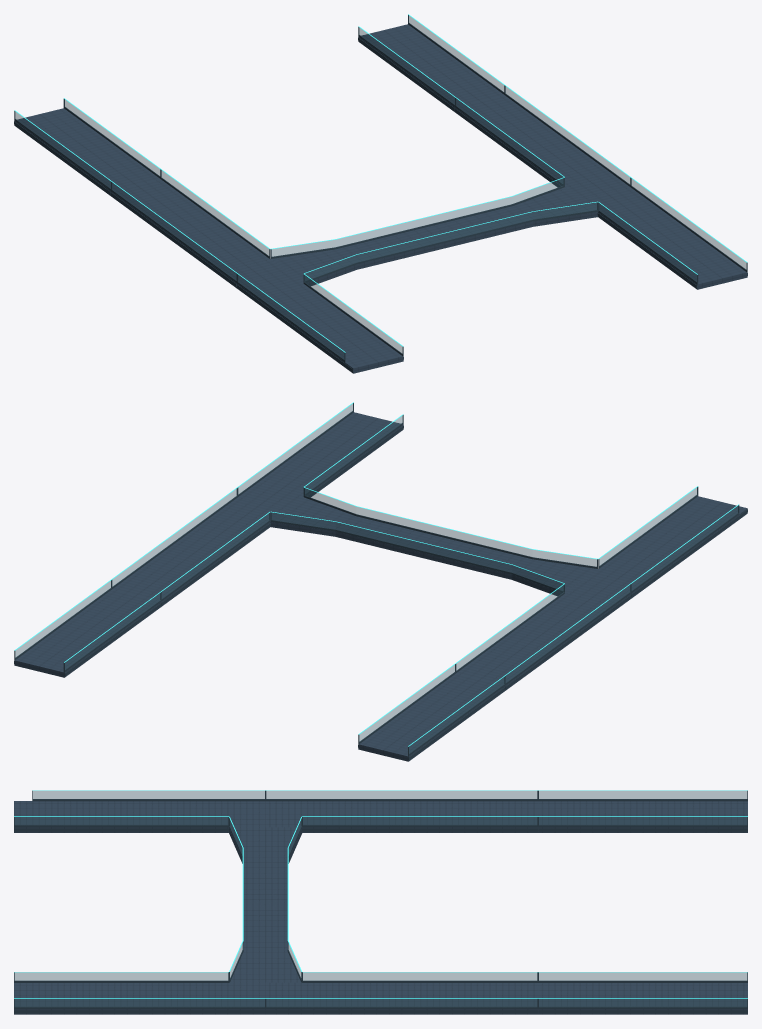
File: terrace-portal-2-slender.glb
3 renders of one model, top to bottom at view 1: azimuth 30°, elevation 25°; view 2: azimuth 150°, elevation 25°; view 3: azimuth 270°, elevation 25°, orthographic. The views are drawn at different scales.
Visible parts, largest first — view 1: terrace-portal-2-slender::gallery-E-52-230, terrace-portal-2-slender::public-guard-0046, terrace-portal-2-slender::detail-fascia-gallery-E-52-230--1, terrace-portal-2-slender::public-guard-0046-cap; view 2: terrace-portal-2-slender::gallery-E-52-230, terrace-portal-2-slender::public-guard-0046, terrace-portal-2-slender::detail-fascia-gallery-E-52-230--1, terrace-portal-2-slender::public-guard-0046-cap; view 3: terrace-portal-2-slender::gallery-E-52-230, terrace-portal-2-slender::public-guard-0046, terrace-portal-2-slender::detail-fascia-gallery-E-52-230--1, terrace-portal-2-slender::public-guard-0046-cap.
Boxes of the visible parts, bbox=[...] form: terrace-portal-2-slender::gallery-E-52-230: bbox=[14, 24, 747, 373]; terrace-portal-2-slender::public-guard-0046: bbox=[15, 16, 746, 359]; terrace-portal-2-slender::detail-fascia-gallery-E-52-230--1: bbox=[14, 15, 747, 371]; terrace-portal-2-slender::public-guard-0046-cap: bbox=[14, 14, 747, 352]; terrace-portal-2-slender::gallery-E-52-230: bbox=[14, 412, 747, 761]; terrace-portal-2-slender::public-guard-0046: bbox=[15, 404, 738, 753]; terrace-portal-2-slender::detail-fascia-gallery-E-52-230--1: bbox=[14, 403, 747, 759]; terrace-portal-2-slender::public-guard-0046-cap: bbox=[14, 402, 738, 746]; terrace-portal-2-slender::gallery-E-52-230: bbox=[14, 801, 747, 1014]; terrace-portal-2-slender::public-guard-0046: bbox=[15, 791, 746, 1006]; terrace-portal-2-slender::detail-fascia-gallery-E-52-230--1: bbox=[14, 790, 747, 1013]; terrace-portal-2-slender::public-guard-0046-cap: bbox=[14, 790, 747, 998].
Size of the model in its own units: 47.1 by 1.77 by 70.
Materials: 5 (1 with a texture image).
